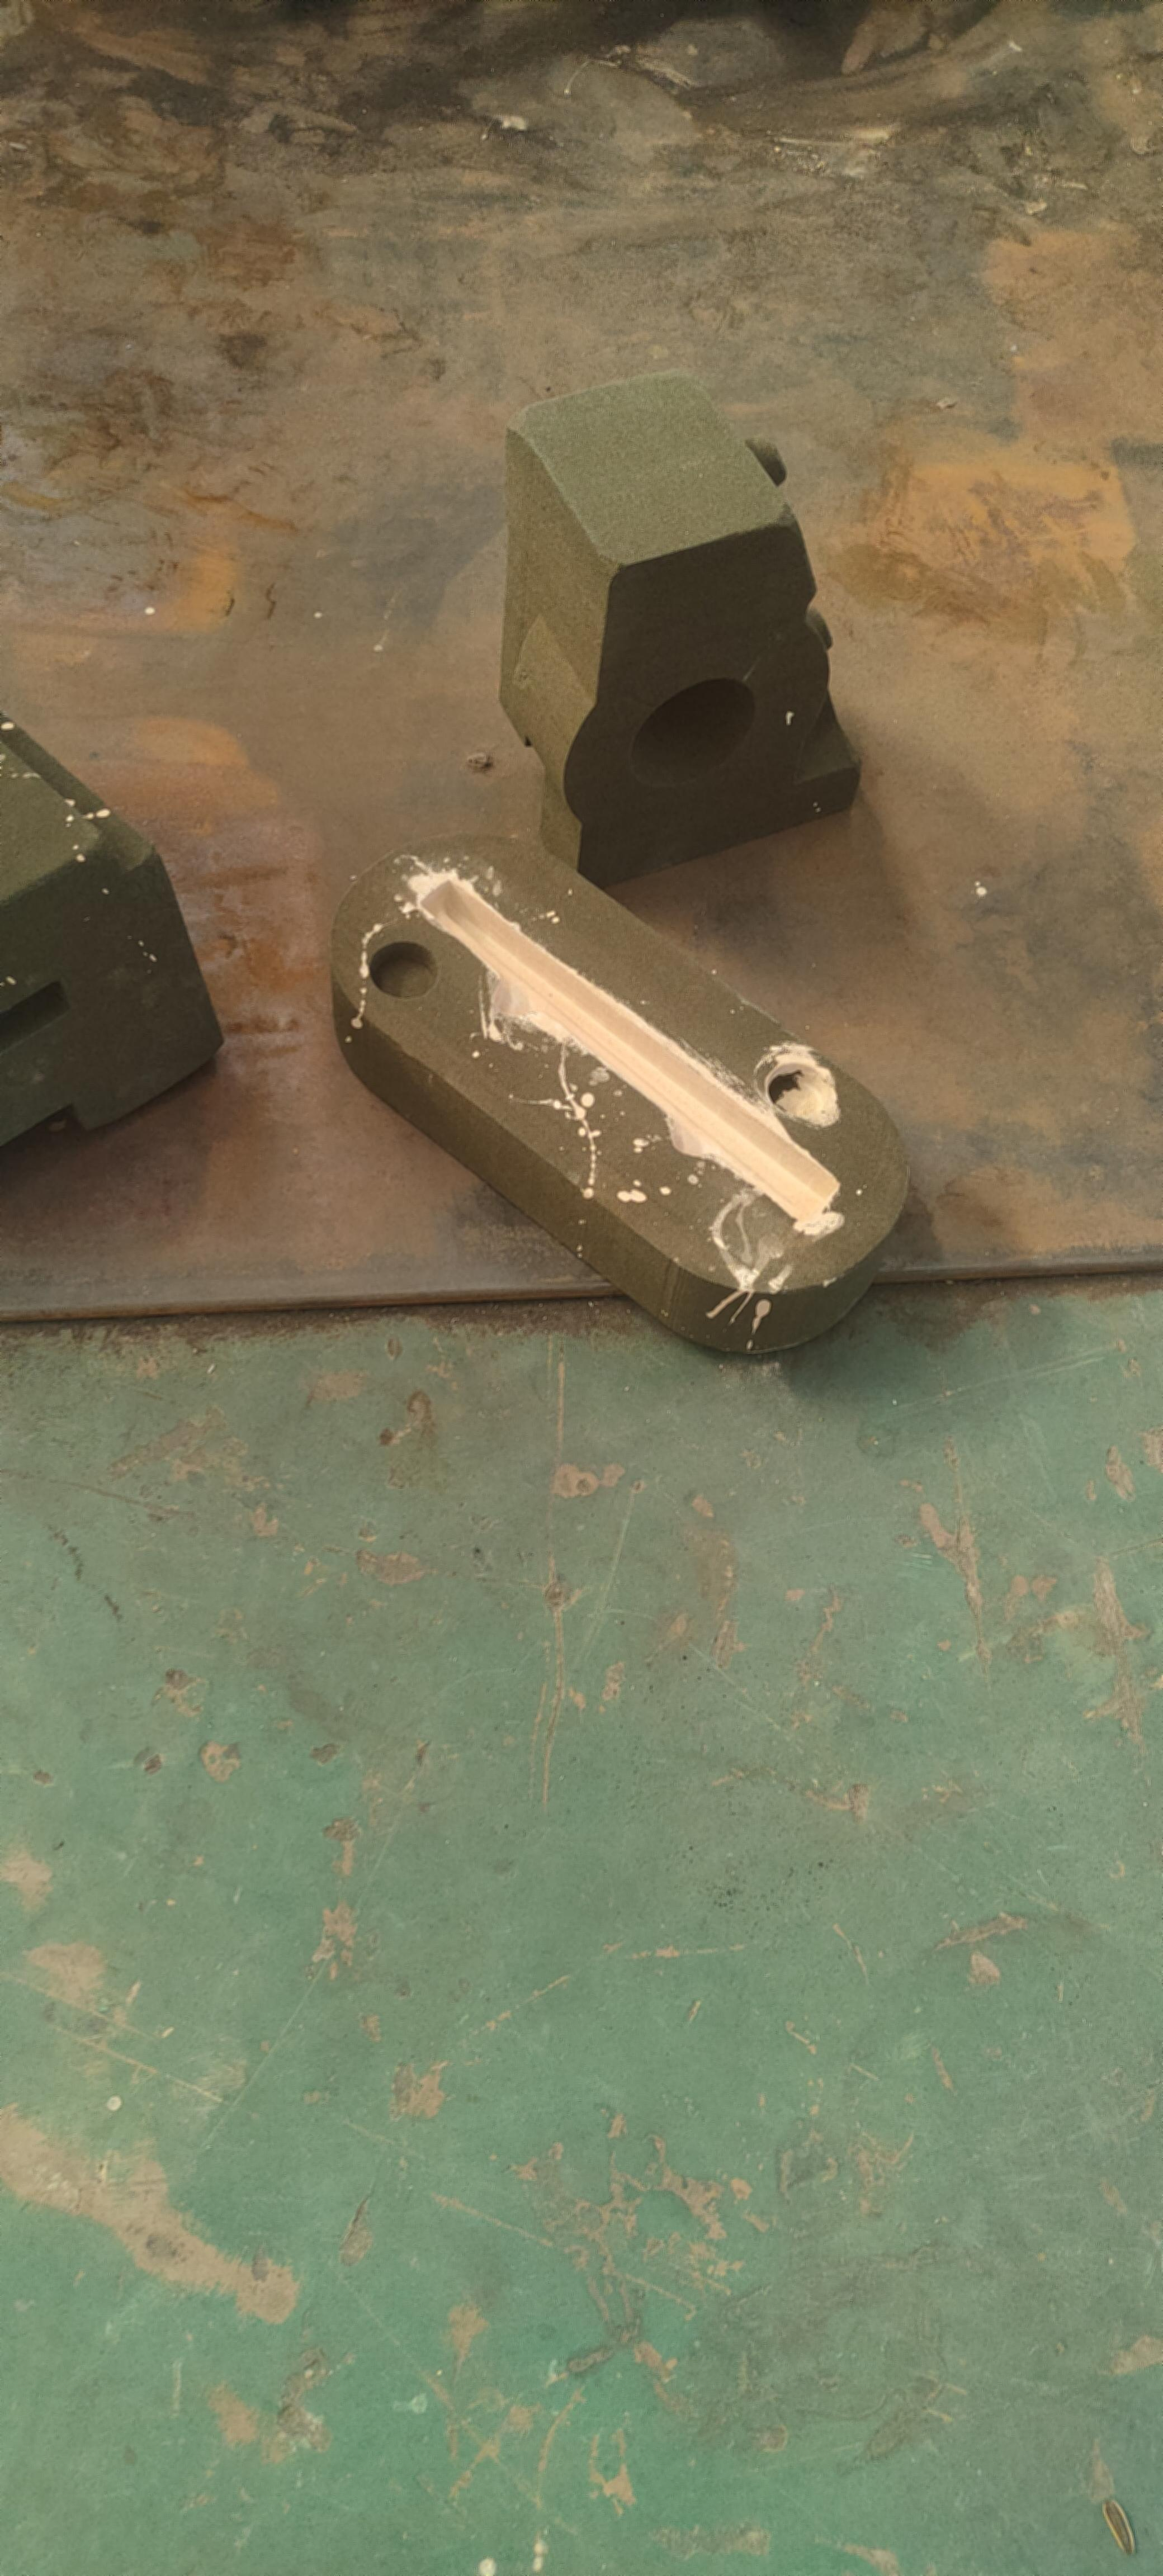pouring hole: (631, 680, 757, 785)
